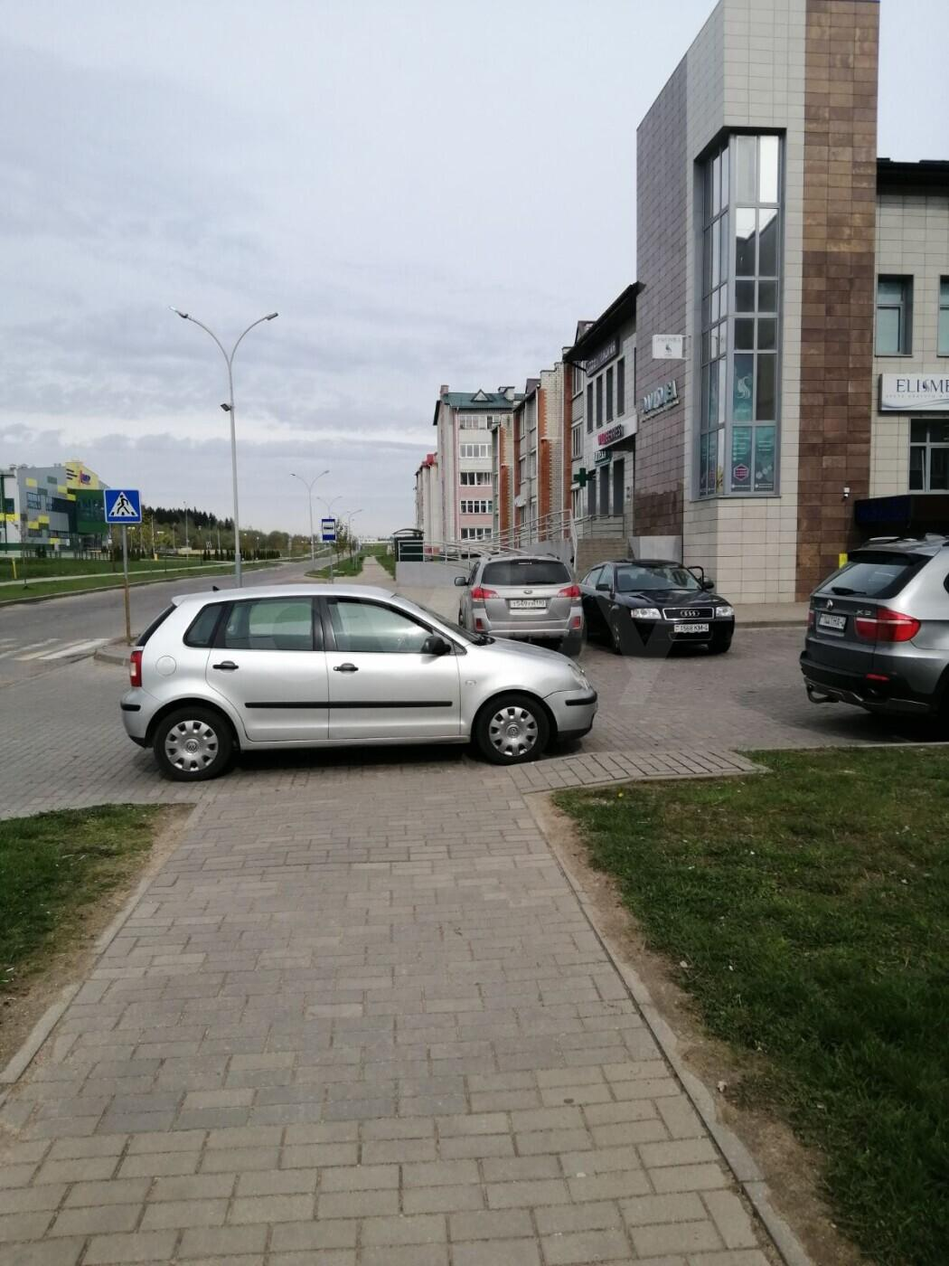Polo_2001-2005: (117, 584, 617, 803)
